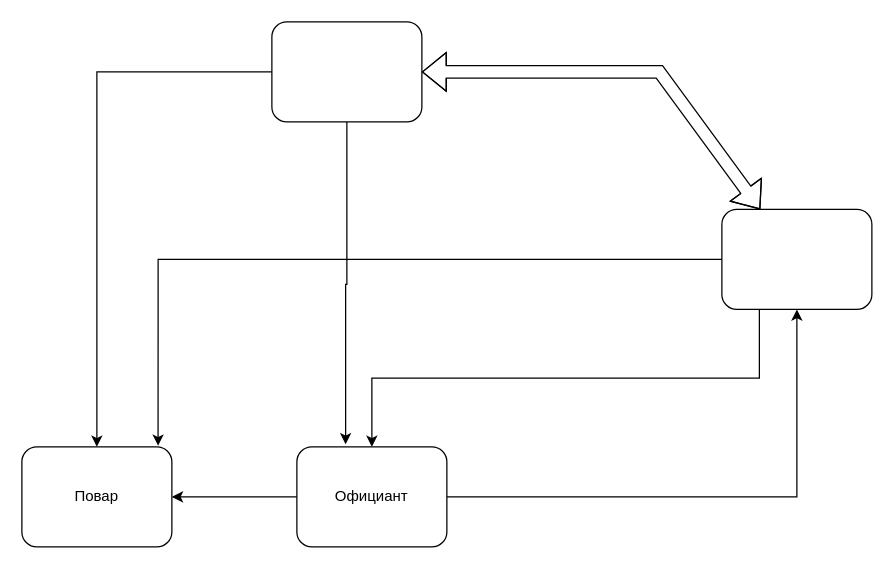
The diagram is 894 pixels wide and 569 high, and some of its shapes have lost their labels. The centre of each missing label's shape, as x and y in pixels:
"Администратор" belongs at point 796,258.
"Директор" belongs at point 346,71.
